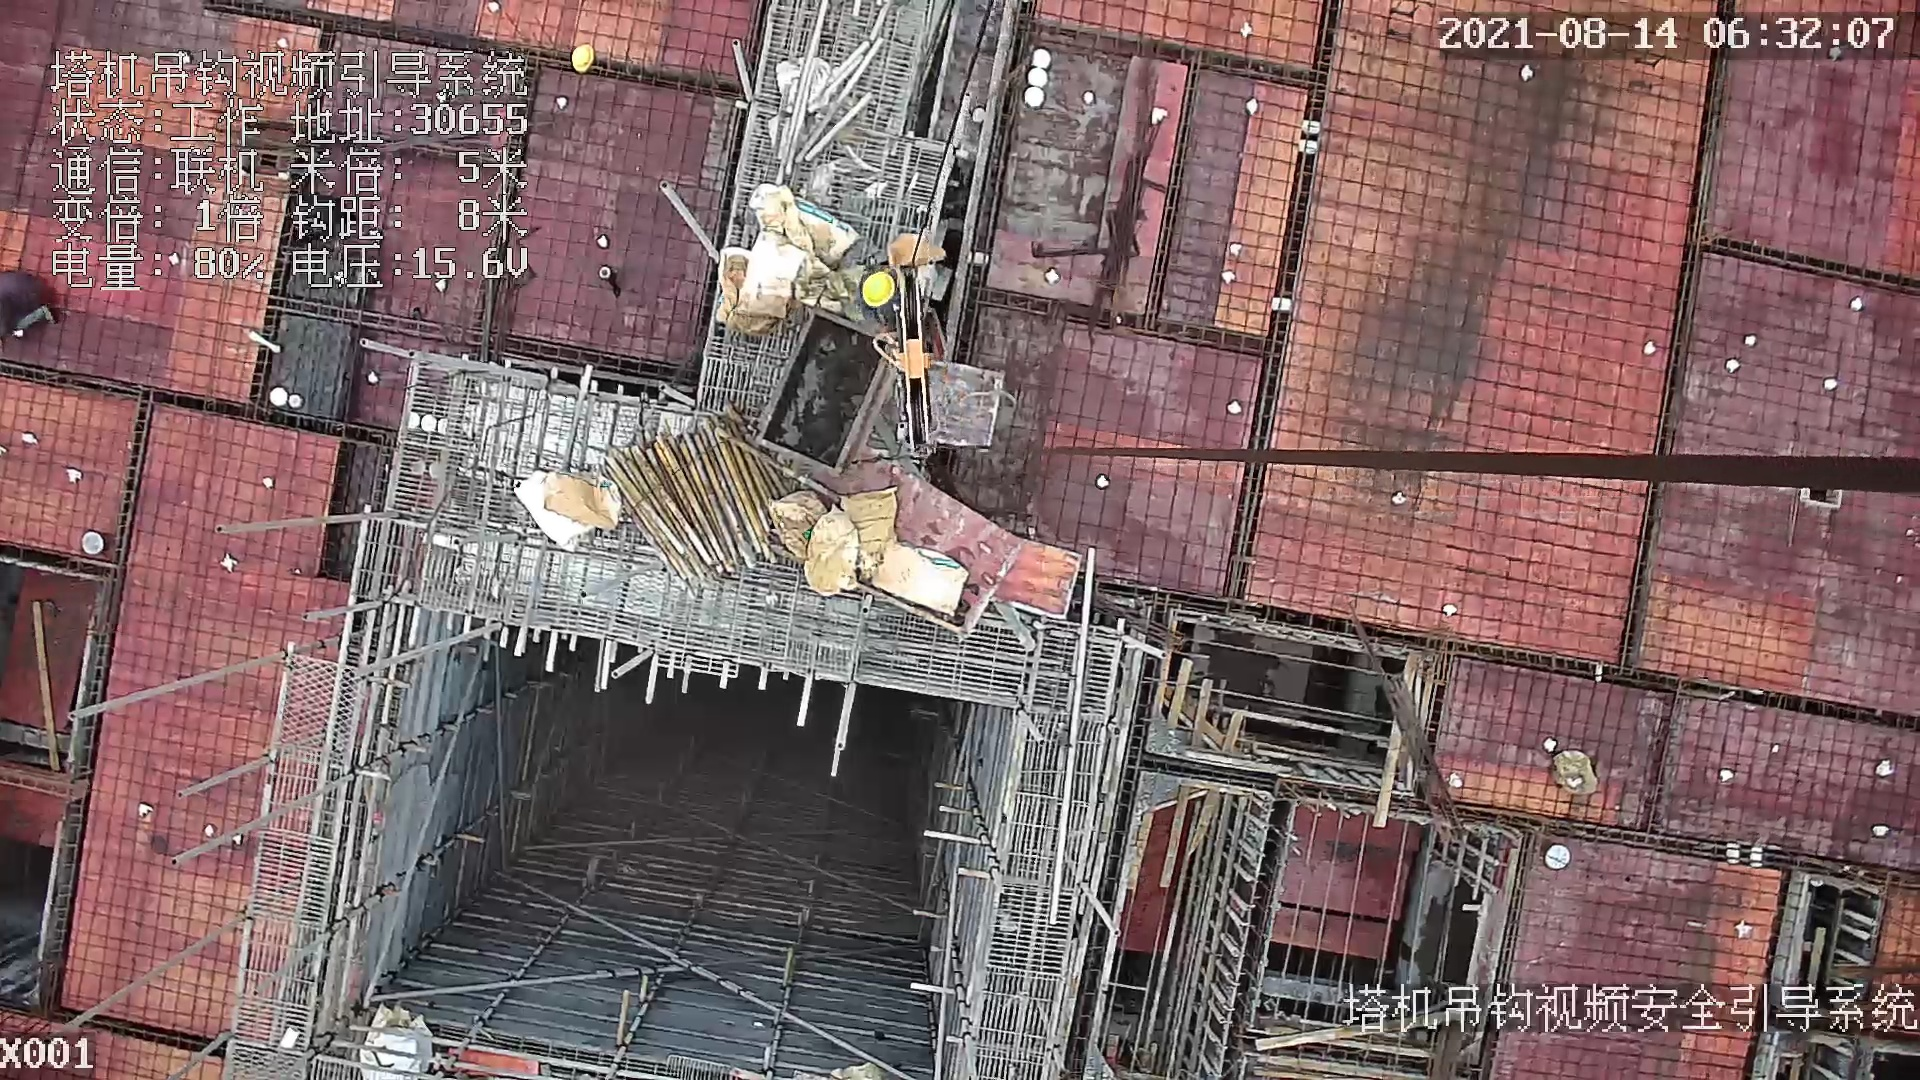helmet: (854, 271, 901, 312), (568, 44, 595, 72)
hook: (877, 271, 937, 450)
hopper: (756, 304, 879, 469)
person: (835, 255, 914, 335), (1, 253, 59, 353)
scaffold: (597, 392, 796, 572)
